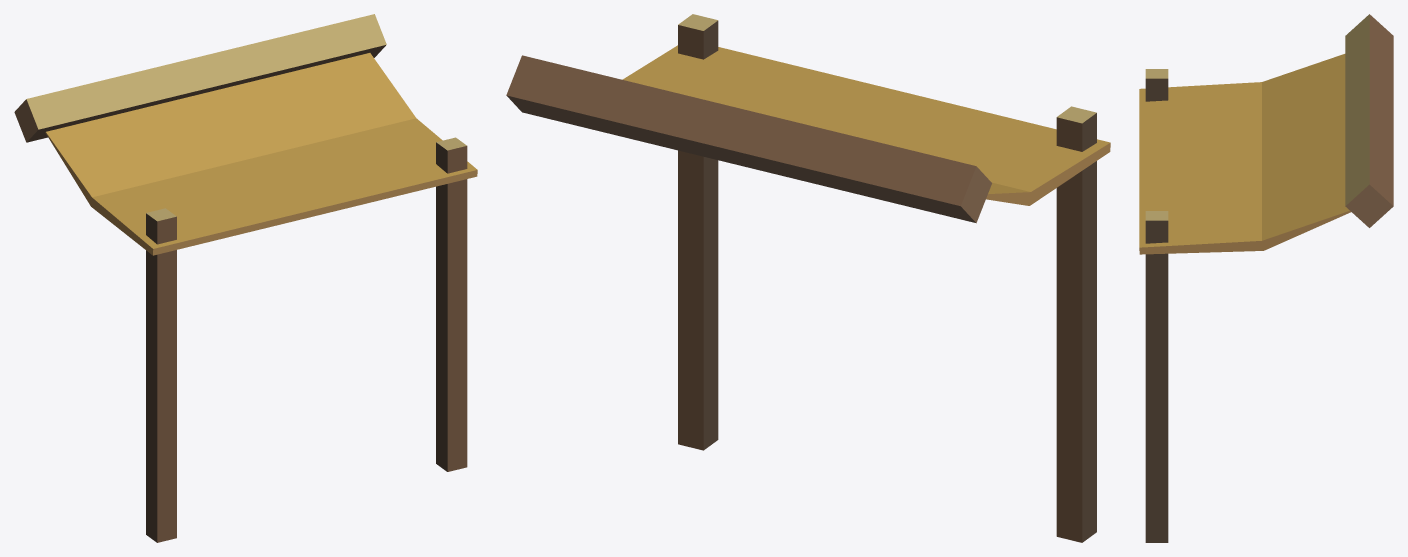
File: TB_D_Bd_Canopy_WLeg_D.FBX
3 views of the same model, side by side, from view 1: azimuth 30°, elevation 25°; view 2: azimuth 150°, elevation 25°; view 3: azimuth 270°, elevation 25° (orthographic). The views are drawn at different scales.
Parts seen in each view (by area): view 1: TB_D_Bd_Canopy_WLeg_D; view 2: TB_D_Bd_Canopy_WLeg_D; view 3: TB_D_Bd_Canopy_WLeg_D.
Boxes of the visible parts, left/top/right/bottom form: TB_D_Bd_Canopy_WLeg_D: left=14, top=14, right=477, bottom=542; TB_D_Bd_Canopy_WLeg_D: left=506, top=14, right=1110, bottom=542; TB_D_Bd_Canopy_WLeg_D: left=1139, top=14, right=1393, bottom=542.
Bounding box in the file's own units: 2.5 × 2.52 × 1.58.
